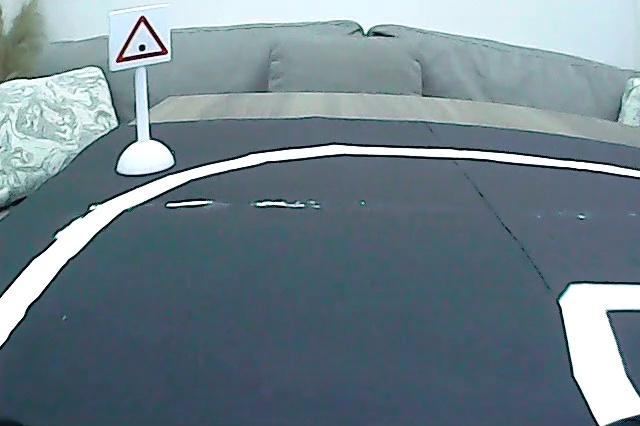green light: (114, 12, 170, 64)
